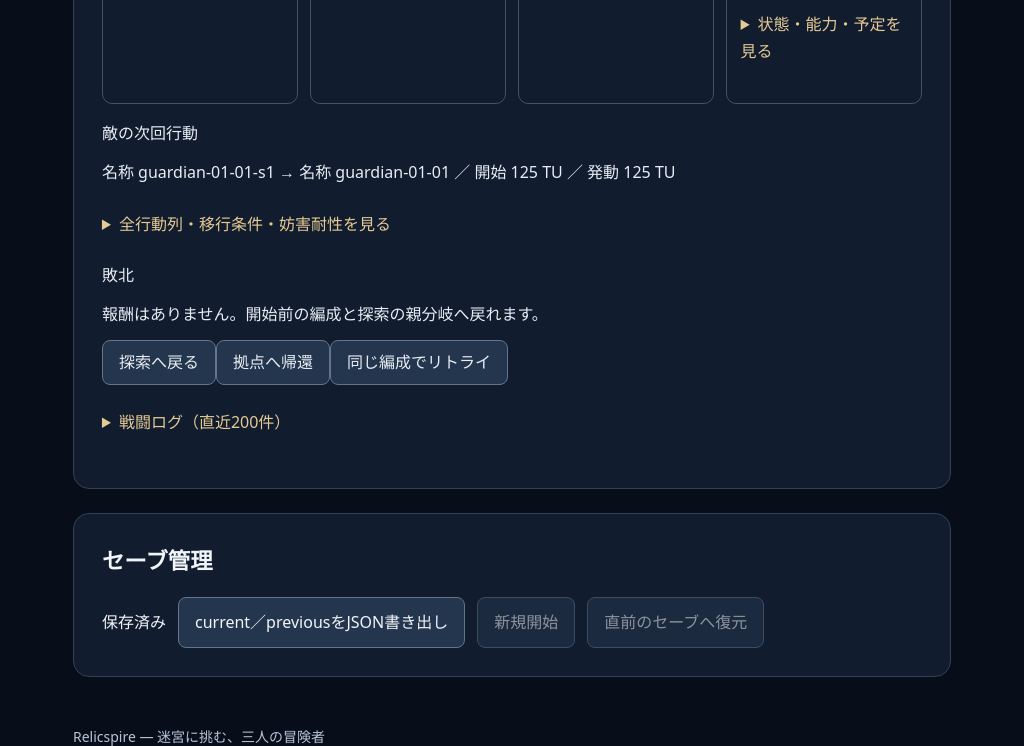
Test: 戦闘操作と保存の画面接続 › 敗北画面から拠点へ帰還し、開始前の編成と設定を保持して帰還位置だけ保存する
The image size is (1024, 746).
(page scrolled)
Click the button "拠点へ帰還".
click(273, 363)  # box [216,340,330,385]
(page scrolled)
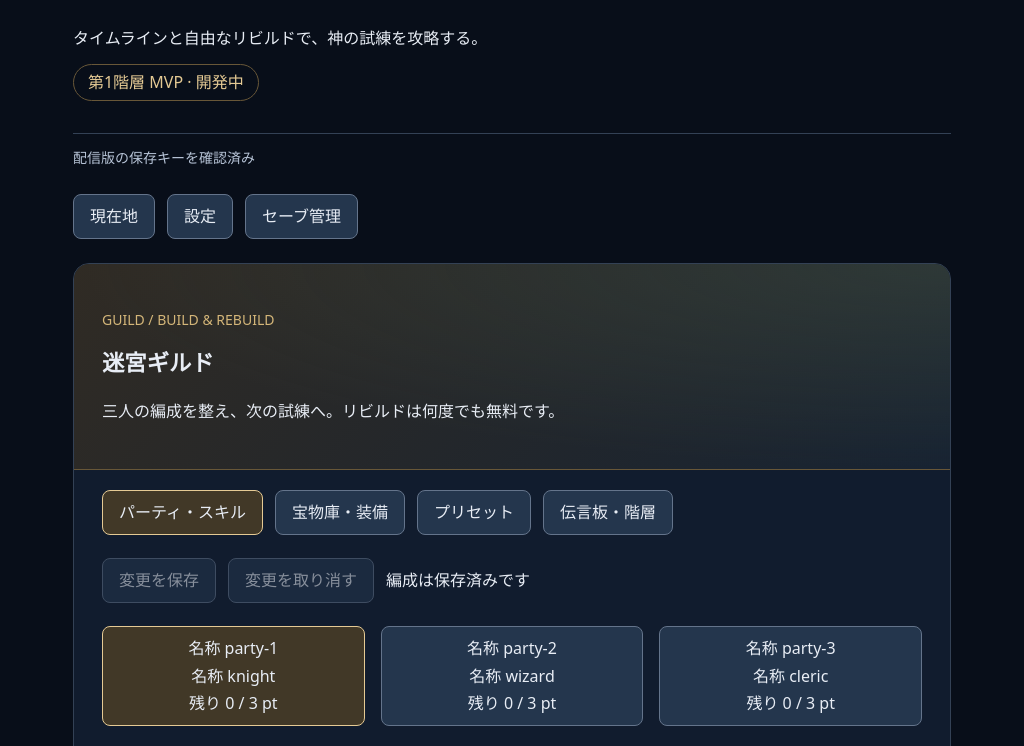
Expected: the heading "迷宮ギルド" is shown, [102,347,214,378]
